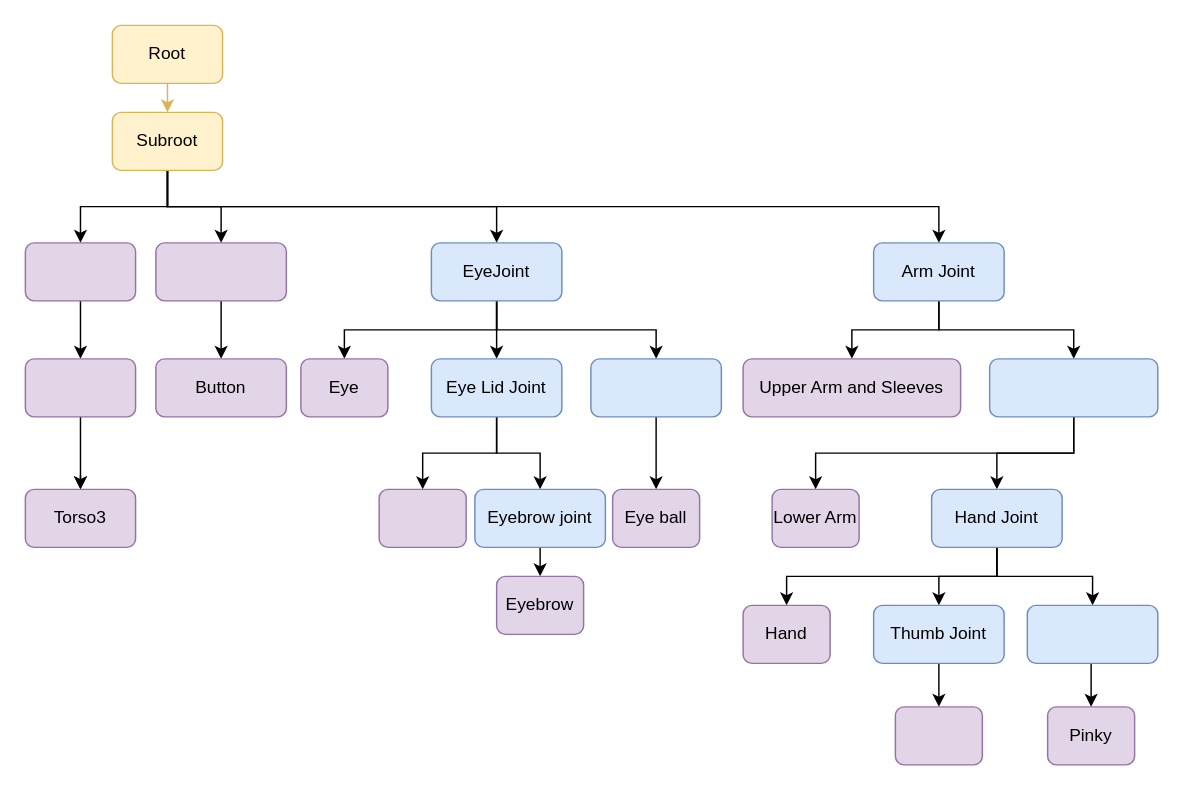
Image size: 1183x790. Some labels were removed from this diagram. Here are the shapes that lost their labels. From the top down, the box of each, then its label:
(24, 241, 136, 301): Torso1
(154, 241, 286, 301): Belt
(24, 357, 136, 417): Torso2
(589, 357, 721, 417): Eye Ball Joint
(988, 357, 1158, 417): Lower Arm Joint
(378, 488, 466, 547): Eye lid
(1026, 604, 1158, 663): Pinky Joint
(894, 705, 982, 765): Thumb
